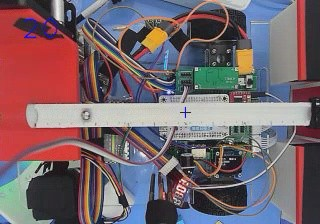ironball: (79, 107, 91, 121)
